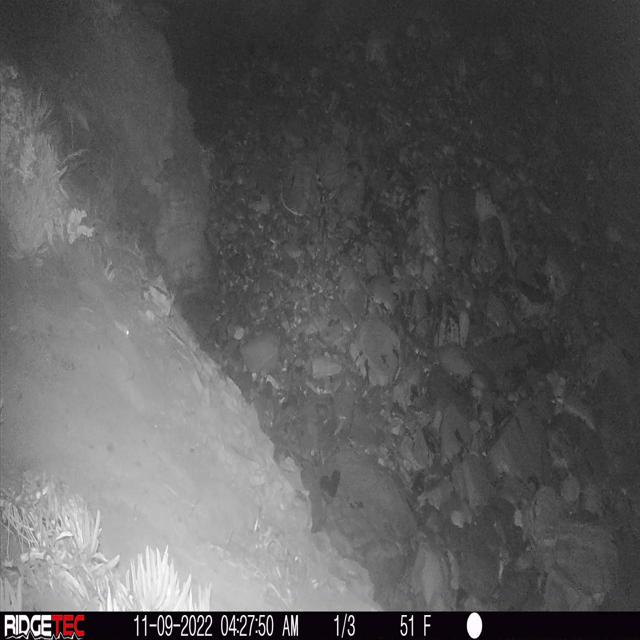rodent: (110, 306, 137, 343)
